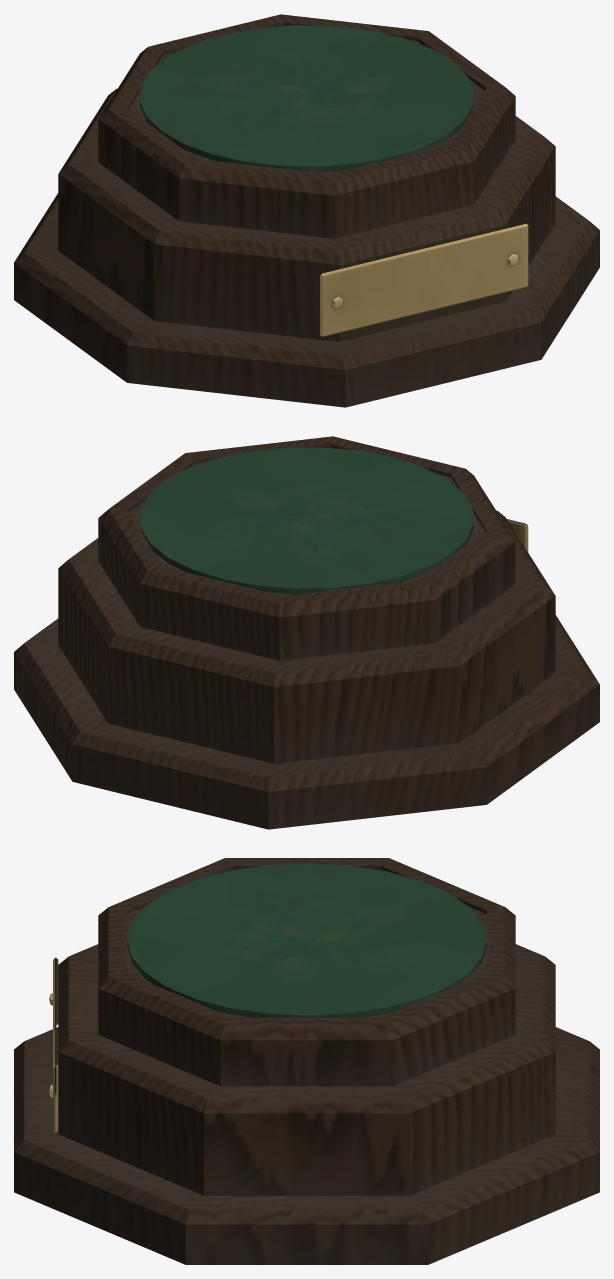
The model's file is trophy-plinth-empty.glb.
3 renders of one model, top to bottom at view 1: azimuth 30°, elevation 25°; view 2: azimuth 150°, elevation 25°; view 3: azimuth 270°, elevation 25°, orthographic. The views are drawn at different scales.
Parts seen in each view (by area): view 1: plinth; view 2: plinth; view 3: plinth.
Part boxes in pixels (x1,y1,x2,y2): plinth: (14,14,599,407); plinth: (14,436,599,829); plinth: (14,858,599,1264).
Size of the model in its own units: 0.132 by 0.0501 by 0.132.
1 material, 1 textured.
